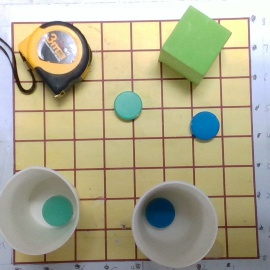blue: (190, 111, 220, 142)
cup_blue: (130, 178, 218, 269)
cup_green: (1, 164, 81, 254)
green: (113, 91, 144, 121)
